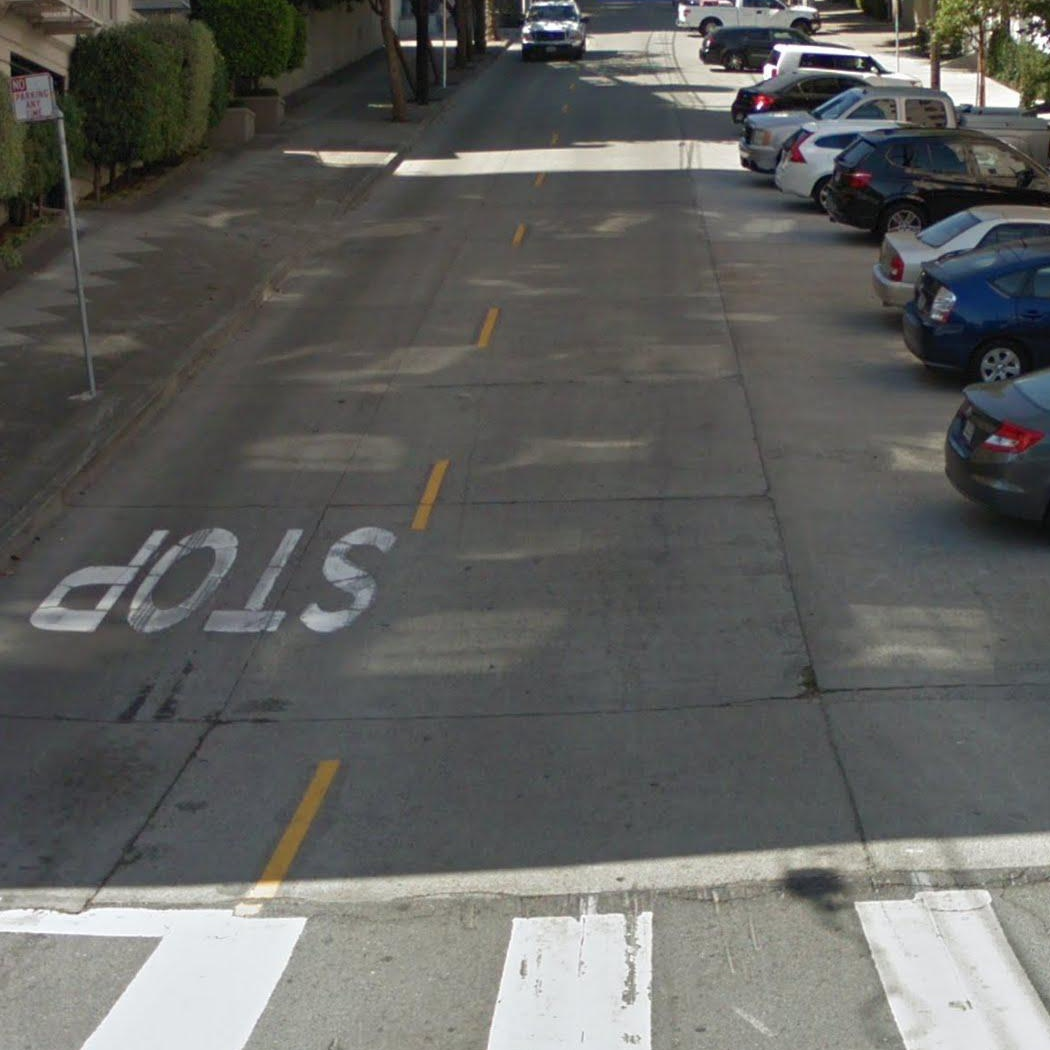No Parking Anytime: (7, 71, 56, 124)
